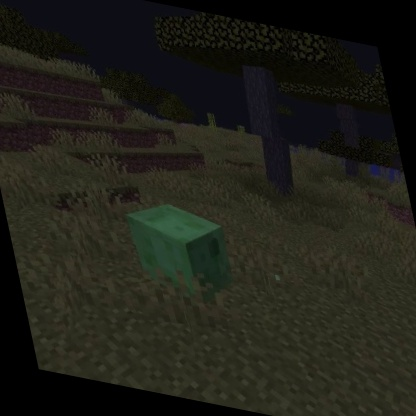slime: (118, 192, 243, 311)
